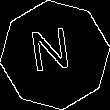N_S: (32, 27, 78, 83)
